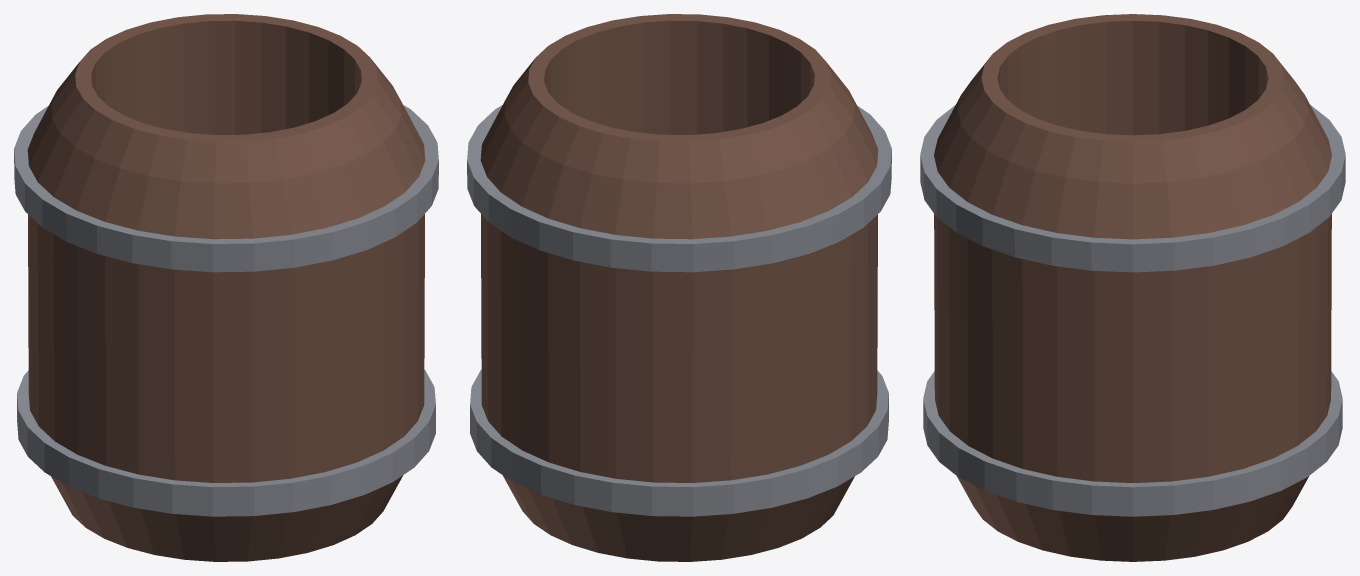
File: barrel.fbx
3 renders of one model, left to right at view 1: azimuth 30°, elevation 25°; view 2: azimuth 150°, elevation 25°; view 3: azimuth 270°, elevation 25°, orthographic.
Visible parts, largest first — view 1: Cylinder.002; view 2: Cylinder.002; view 3: Cylinder.002.
Part boxes in pixels (x1,y1,x2,y2): Cylinder.002: (14,14,438,561); Cylinder.002: (467,14,891,561); Cylinder.002: (920,14,1345,561).
Size of the model in its own units: 172 by 185 by 172.
